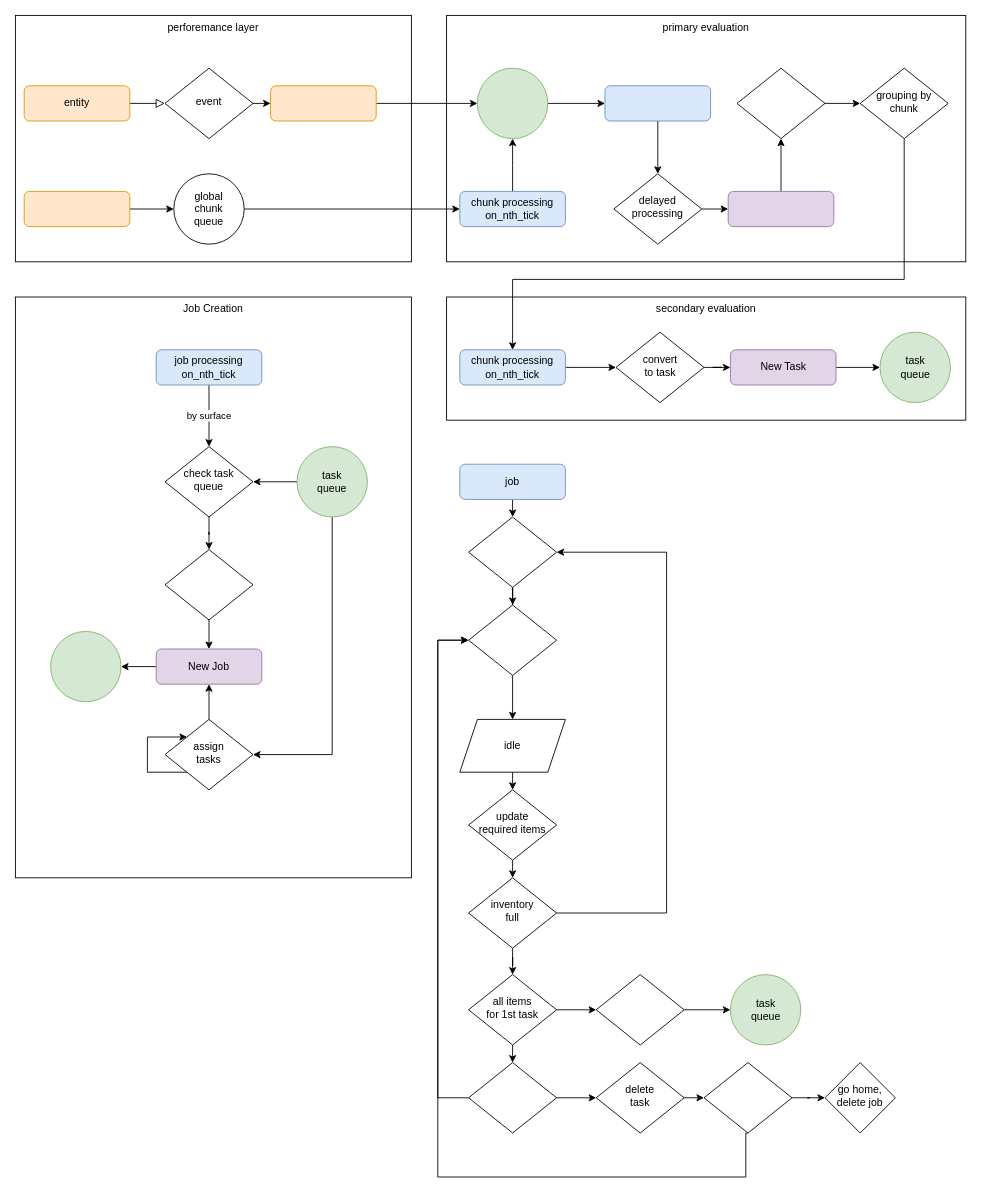
This 981x1199 diagram has some shape labels left out. The shapes that lost their labels are listed below. From the top down, each one's centre as x and y in pixels, then its label:
(323,103): event callback
(512,103): global entity queue
(657,103): entity processing on_nth_tick
(780,103): entity evaluation
(76,209): Player triggers reset
(780,209): surface-manager
(512,551): get all items
(208,584): search free ctrons
(512,639): go to first tasks area
(85,666): job queue
(639,1009): re-queue unfinished part
(512,1097): task completed
(747,1097): all tasks done
